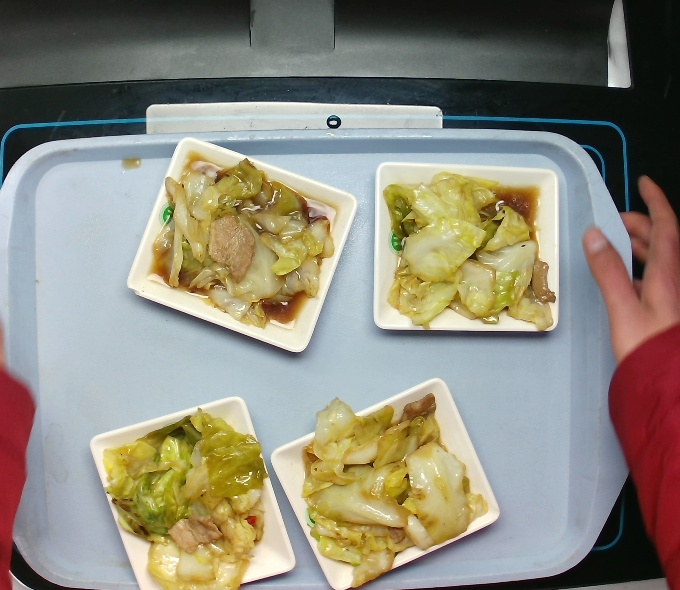wcq-JuanXinCaiChaoRou: (285, 393, 488, 590), (135, 150, 342, 334), (377, 153, 564, 332), (99, 406, 271, 590)
